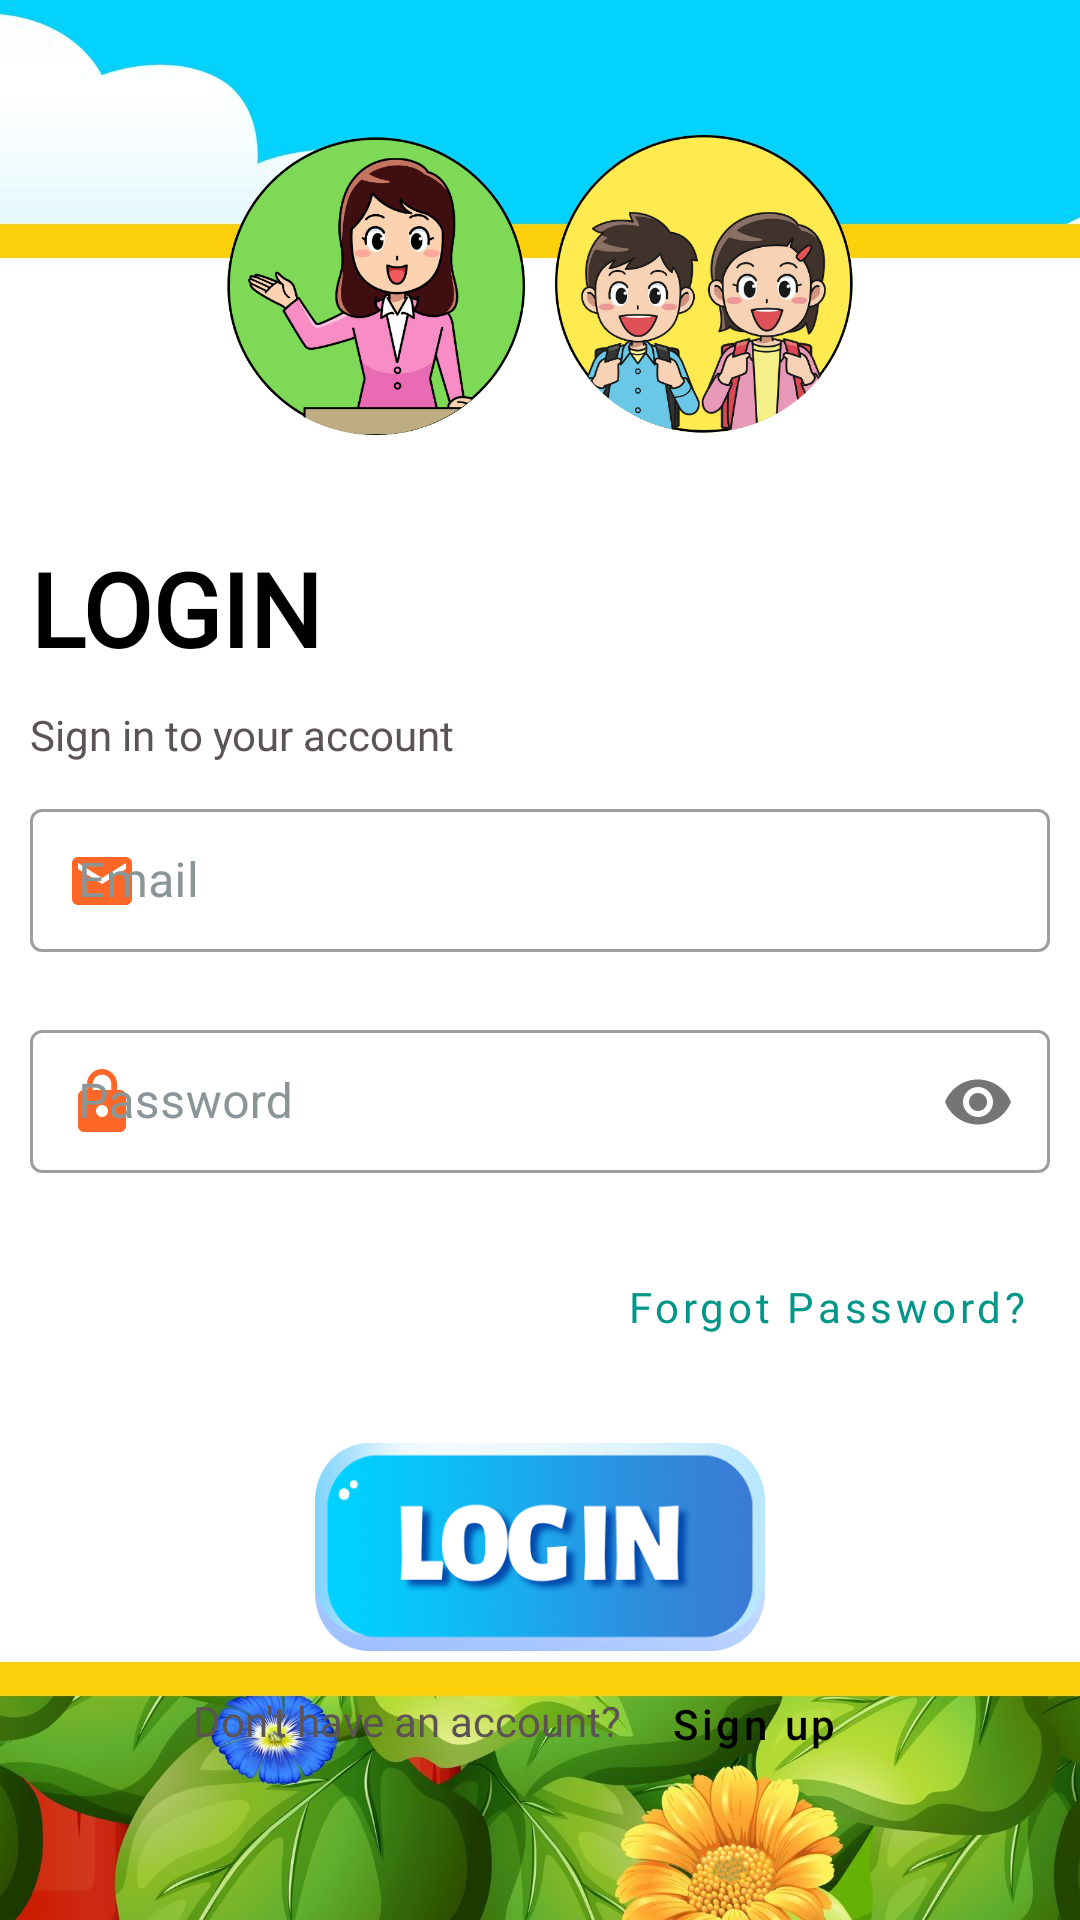

Named icons in this screenshot (1080*1920) and their centers, [x,y]:
Learner: [705,285]
Teacher: [375,285]
